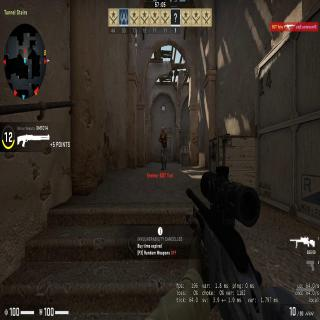T-Body: (160, 127, 168, 164)
T-Head: (162, 127, 164, 133)
